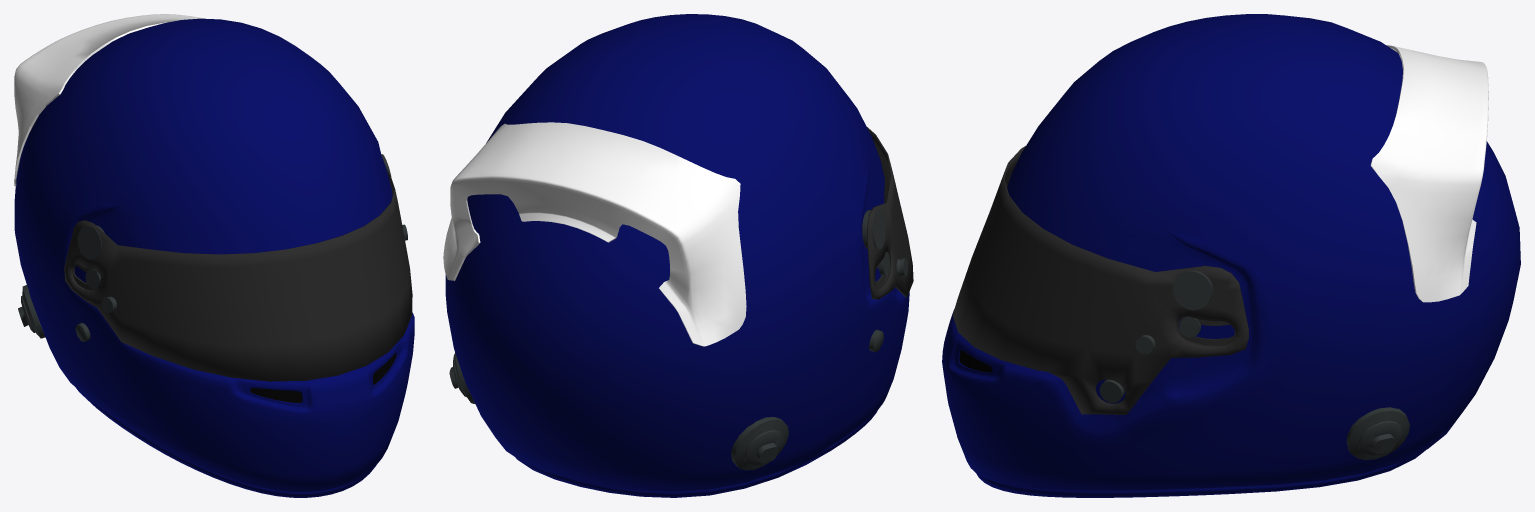
The model's file is Casco500T.FBX.
The picture shows the model from 3 angles, left to right: view 1: azimuth 30°, elevation 25°; view 2: azimuth 150°, elevation 25°; view 3: azimuth 270°, elevation 25°; orthographic projection. The views are drawn at different scales.
Parts seen in each view (by area): view 1: Seb_Casco, Seb_Visor, Seb_Trasnparente, Seb_Tronillos, Seb_respiradores; view 2: Seb_Casco, Seb_Trasnparente, Seb_Tronillos, Seb_Visor; view 3: Seb_Casco, Seb_Visor, Seb_Trasnparente, Seb_Tronillos.
Part boxes in pixels (bbox=[...]): Seb_Casco: bbox=[14, 18, 414, 497]; Seb_Visor: bbox=[64, 166, 412, 381]; Seb_Trasnparente: bbox=[14, 14, 203, 186]; Seb_Tronillos: bbox=[18, 154, 407, 341]; Seb_respiradores: bbox=[250, 353, 396, 403]; Seb_Casco: bbox=[445, 14, 909, 497]; Seb_Trasnparente: bbox=[443, 122, 746, 346]; Seb_Tronillos: bbox=[449, 210, 907, 470]; Seb_Visor: bbox=[867, 127, 913, 299]; Seb_Casco: bbox=[942, 14, 1520, 497]; Seb_Visor: bbox=[952, 146, 1248, 414]; Seb_Trasnparente: bbox=[1370, 45, 1488, 302]; Seb_Tronillos: bbox=[1099, 270, 1409, 460].
Bounding box in the file's own units: 1201 × 1334 × 1625.
